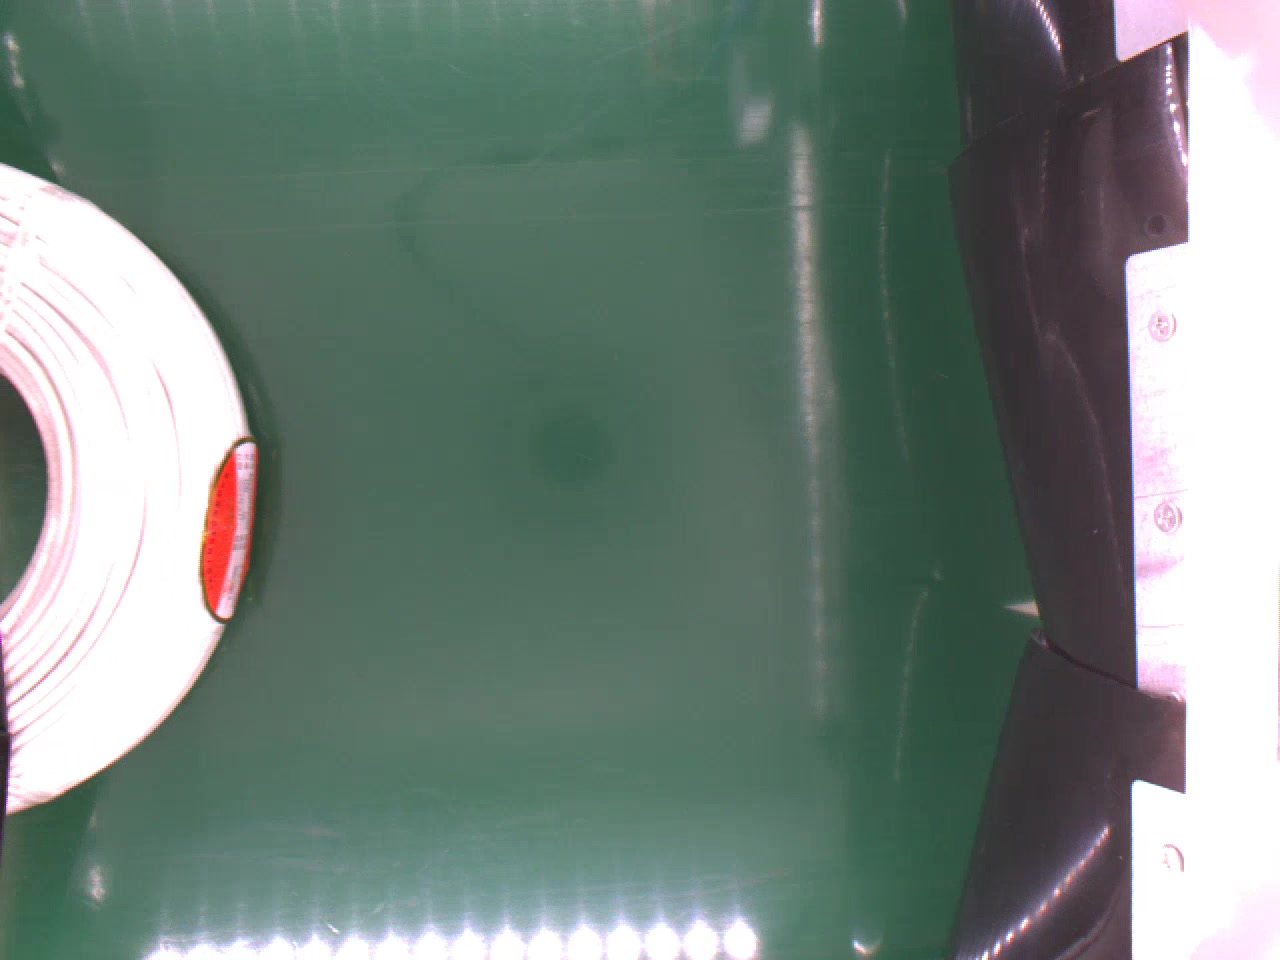white: (0, 160, 263, 817)
